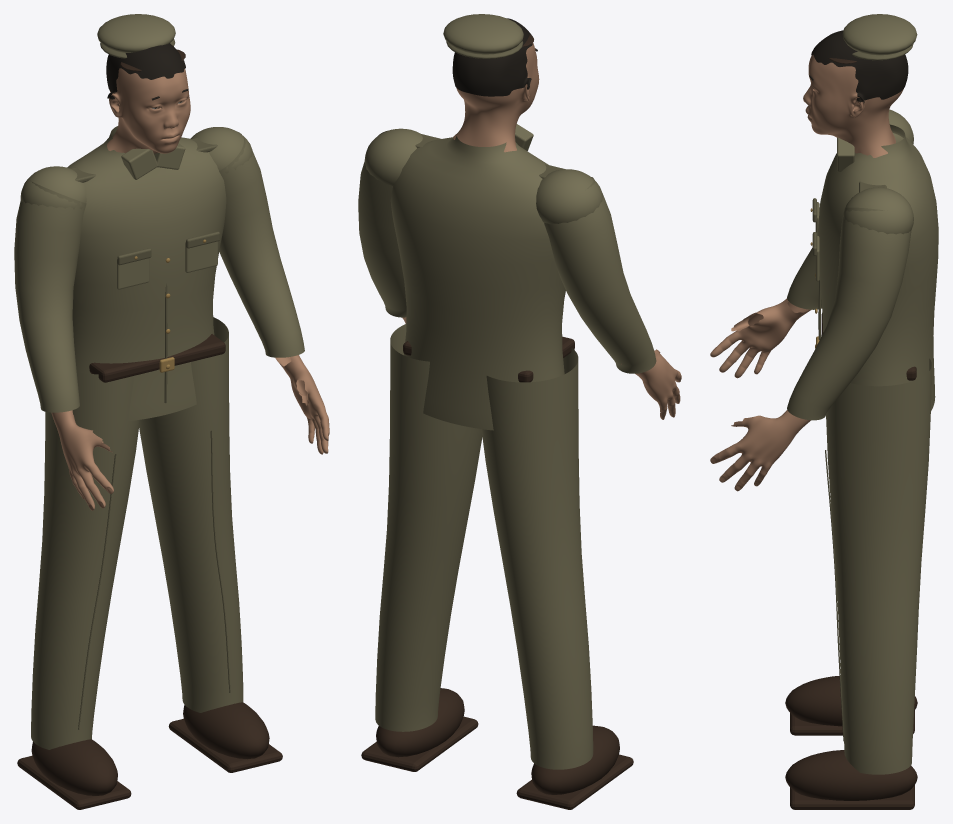
File: japanese.glb
3 views of the same model, side by side, from view 1: azimuth 30°, elevation 25°; view 2: azimuth 150°, elevation 25°; view 3: azimuth 270°, elevation 25° (orthographic). The views are drawn at different scales.
Parts seen in each view (by area): view 1: structured jacket, loose pressed trousers, loose pressed trousers.001, continuous long sleeve, anatomical face neck and hands, continuous long sleeve.001, closed leather shoe.001, closed leather shoe, service cap, shaped hair scalp, rounded shoulder seam, leather waist belt (+6 smaller); view 2: structured jacket, loose pressed trousers, loose pressed trousers.001, continuous long sleeve, anatomical face neck and hands, continuous long sleeve.001, shaped hair scalp, rounded shoulder seam, closed leather shoe, closed leather shoe.001, service cap, rounded shoulder seam.001 (+2 smaller); view 3: loose pressed trousers.001, structured jacket, anatomical face neck and hands, continuous long sleeve.001, closed leather shoe.001, shaped hair scalp, rounded shoulder seam.001, service cap, closed leather shoe, shoe sole.001, continuous long sleeve, shoe sole (+3 smaller).
Part boxes in pixels (x1,y1,x2,y2): structured jacket: (67,126,226,420); loose pressed trousers: (31,372,139,749); loose pressed trousers.001: (139,317,243,712); continuous long sleeve: (14,181,86,412); anatomical face neck and hands: (51,68,329,510); continuous long sleeve.001: (219,132,304,357); closed leather shoe.001: (183,702,269,759); closed leather shoe: (31,739,117,795); service cap: (97,14,175,52); shaped hair scalp: (106,43,185,99); rounded shoulder seam: (20,166,86,209); leather waist belt: (89,334,225,382); structured jacket: (390,132,565,430); loose pressed trousers: (481,348,593,769); loose pressed trousers.001: (375,324,482,731); continuous long sleeve: (544,177,656,373); anatomical face neck and hands: (402,43,681,419); continuous long sleeve.001: (358,130,406,317); shaped hair scalp: (452,18,532,96); rounded shoulder seam: (536,169,603,224); closed leather shoe: (531,725,619,794); closed leather shoe.001: (376,688,464,757); service cap: (443,14,523,54); rounded shoulder seam.001: (364,128,422,185); loose pressed trousers.001: (826,358,931,774); structured jacket: (818,124,938,410); anatomical face neck and hands: (710,55,903,491); continuous long sleeve.001: (787,207,911,420); closed leather shoe.001: (785,750,917,800); shaped hair scalp: (811,30,908,102); rounded shoulder seam.001: (843,187,913,234); service cap: (842,14,917,55); closed leather shoe: (785,675,917,726); shoe sole.001: (790,785,914,809); continuous long sleeve: (787,248,821,309); shoe sole: (790,710,914,735).
Size of the model in its own units: 0.6494 by 1.76 by 0.4931.
